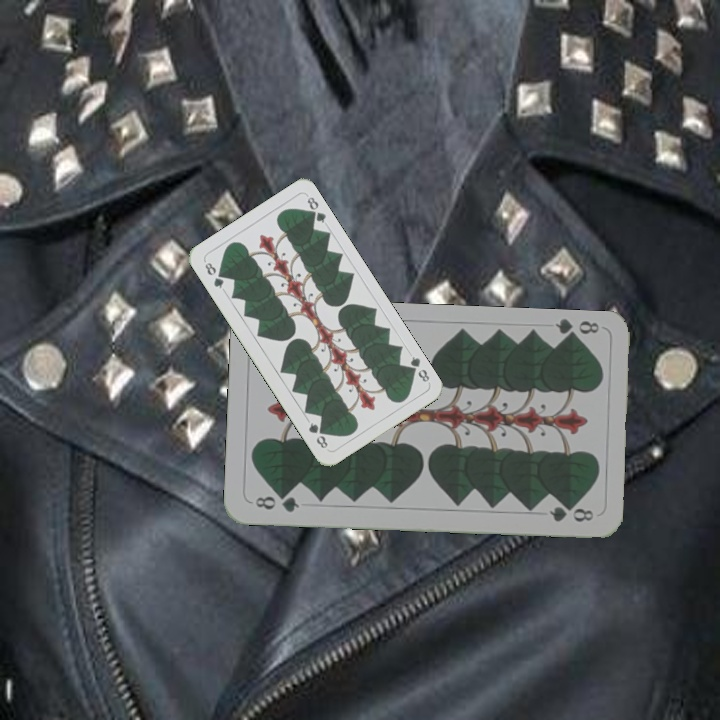G8: (551, 316, 601, 344), (251, 491, 302, 515), (404, 352, 432, 385), (201, 258, 227, 291)
